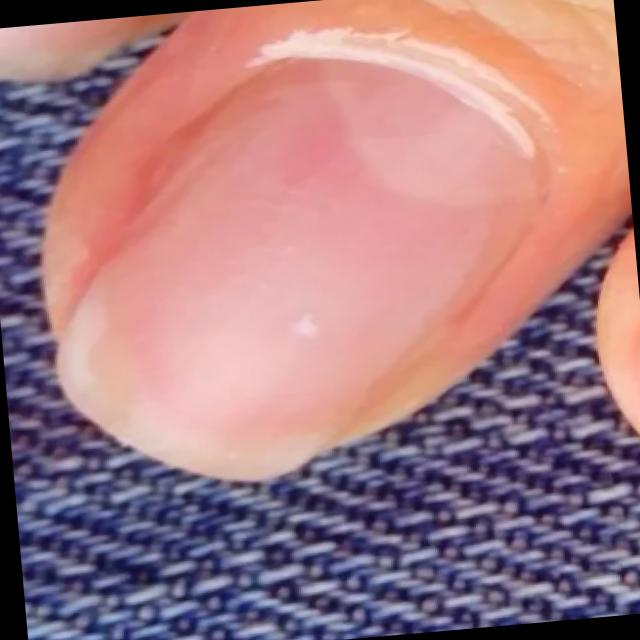Nail: (58, 61, 536, 477)
